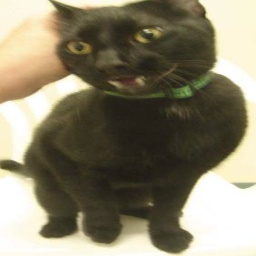cat: (29, 0, 249, 254)
